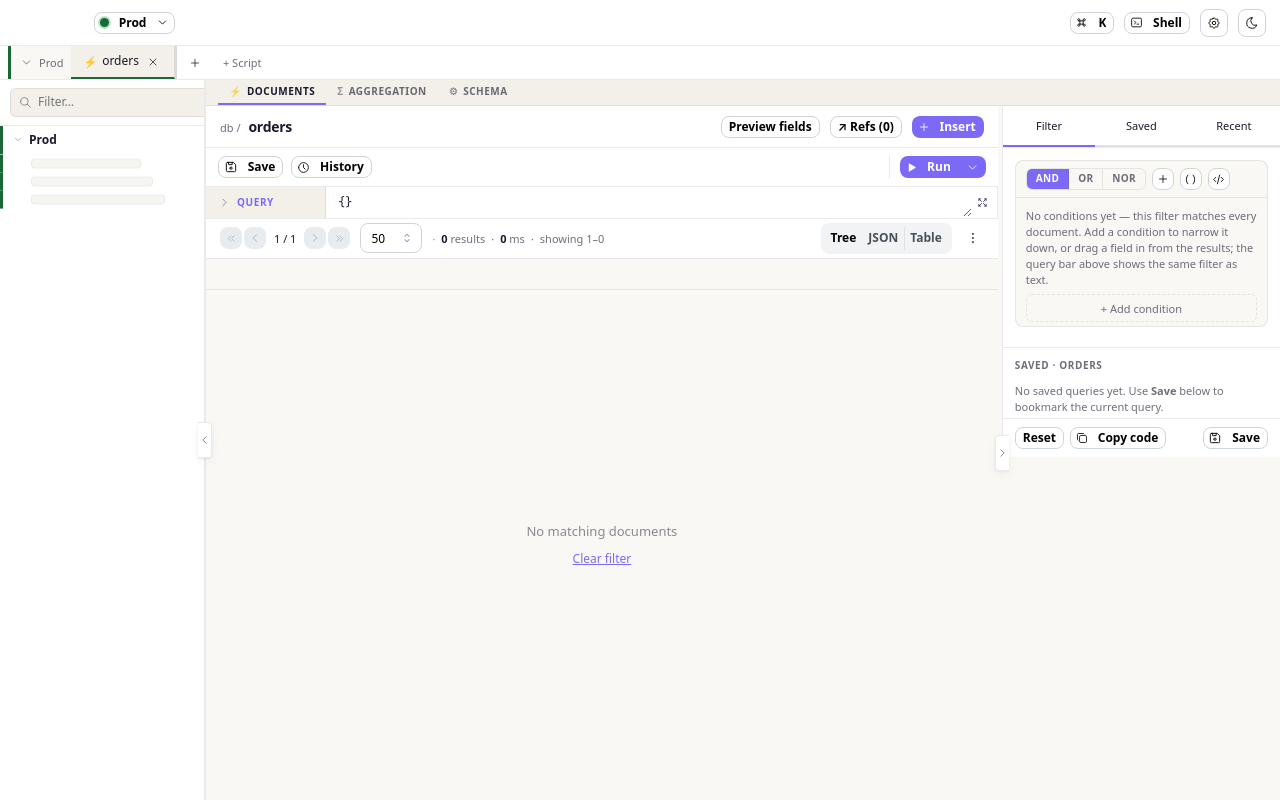
Test: a pointer interaction in a Workspace with a tab open keeps its focus › typing after a click lands in the clicked field
expect the button named "Close orders" is shown: met, box [144, 52, 162, 70]
Click the field named "Filter collections" at (125, 102), box [38, 93, 212, 112]
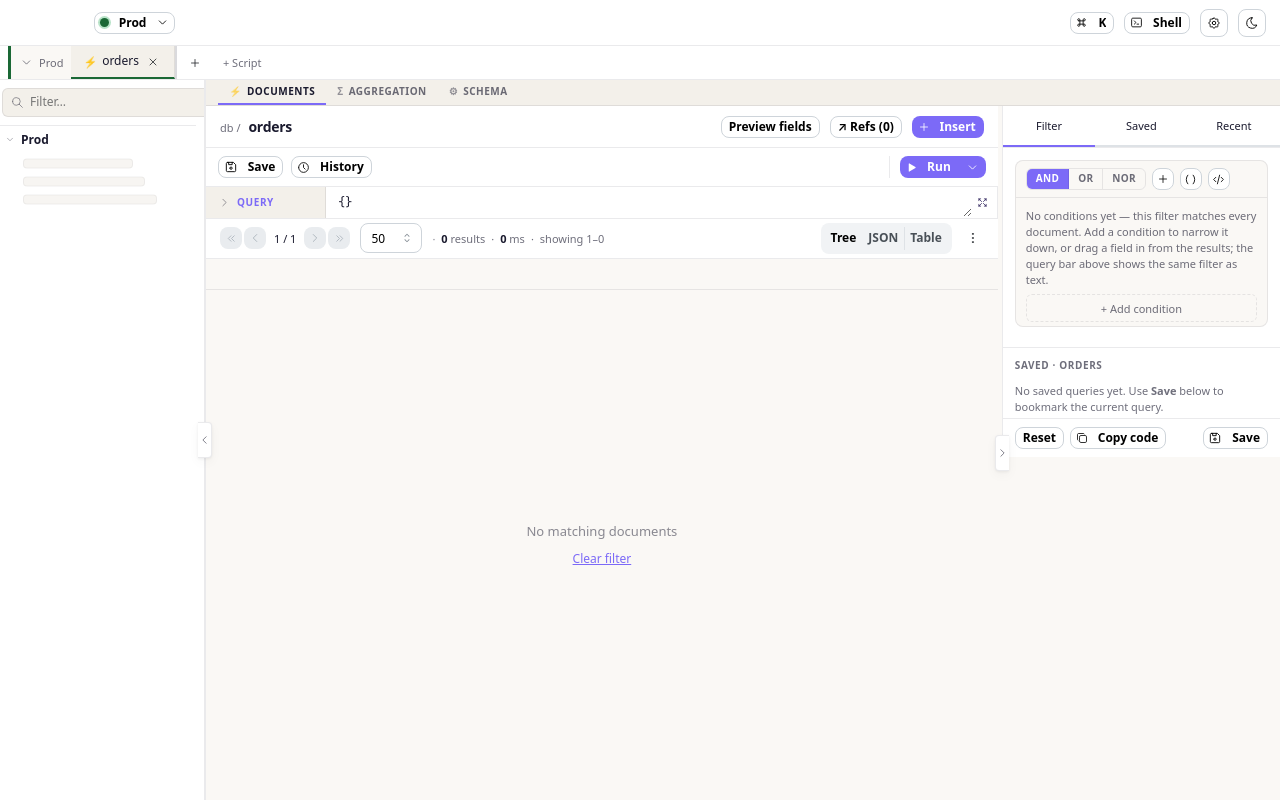
Type keys "ord"
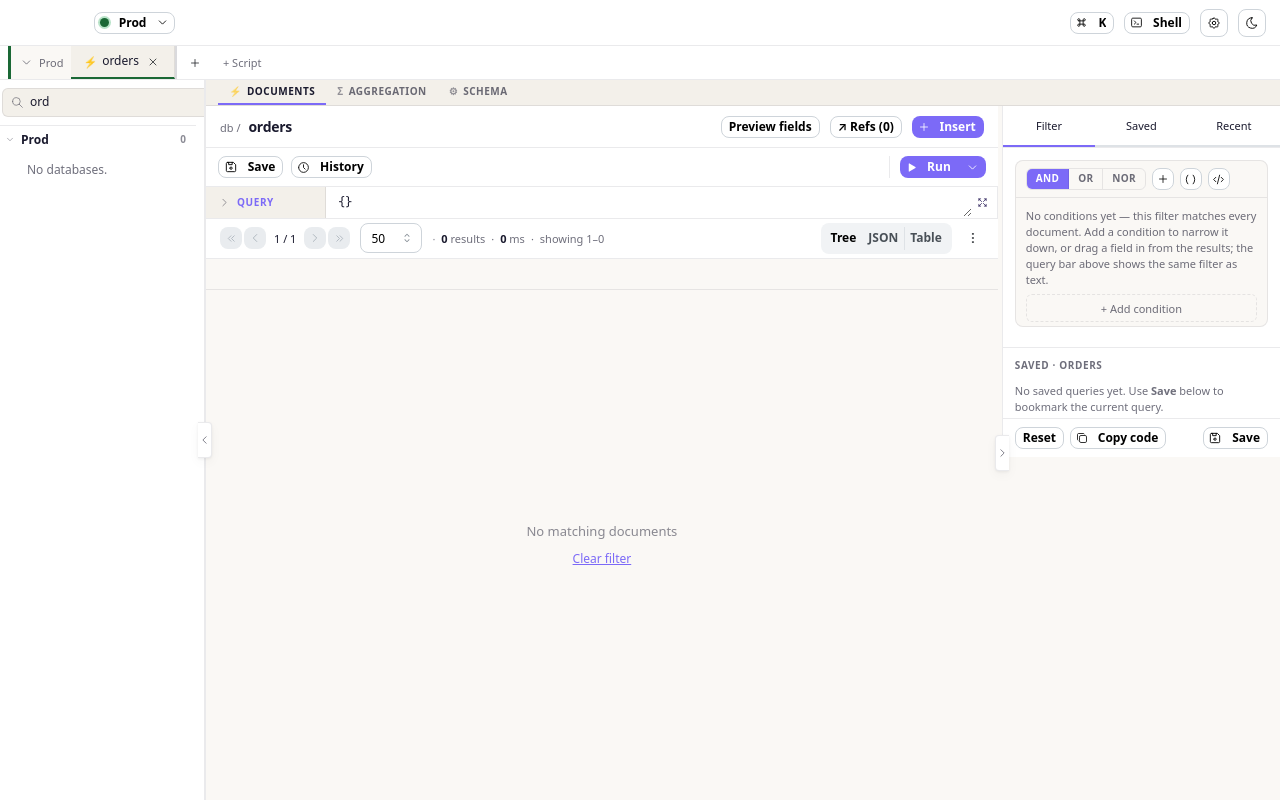
expect the field named "Filter collections" holds "ord": met, box [30, 93, 204, 112]
